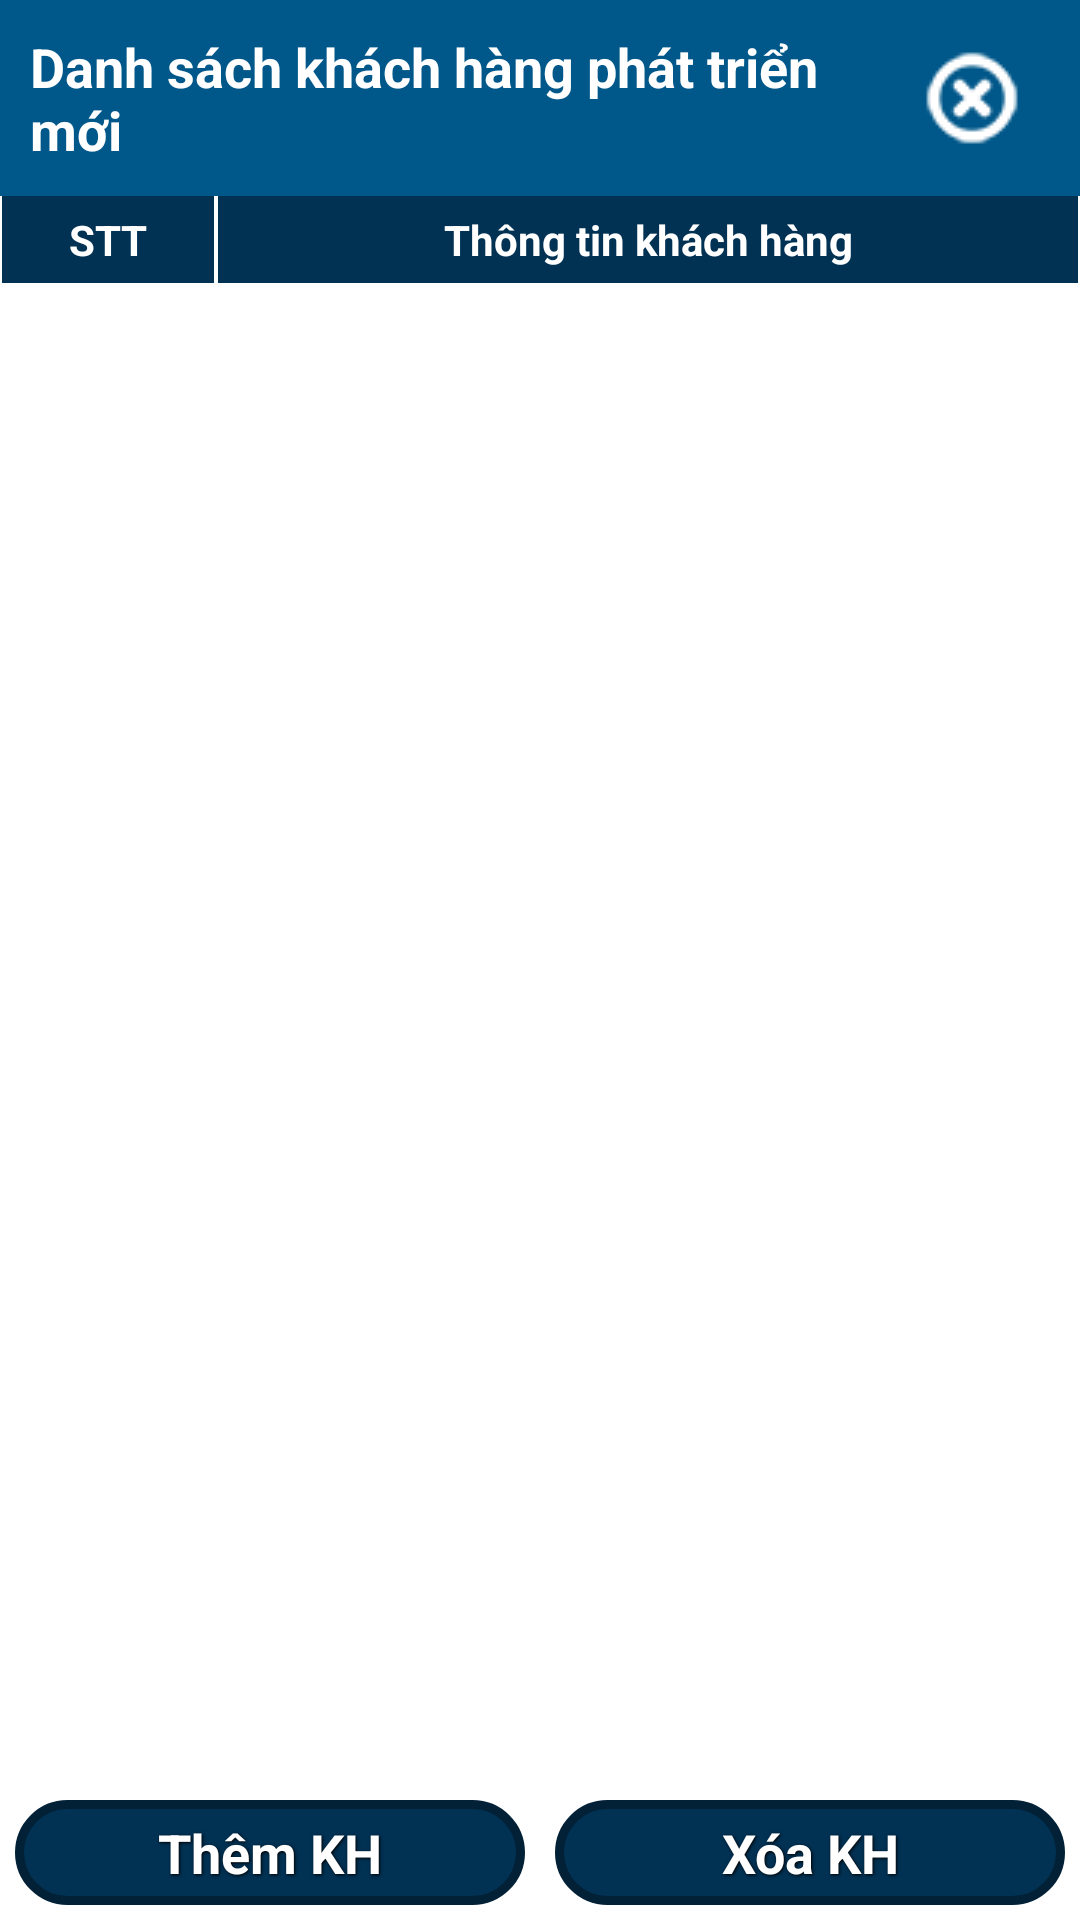

Named icons in this screenshot (1080 x 1920) and their bounding boxes, (x1, y1, x2, y2):
gcs close: (926, 52, 1018, 144)
